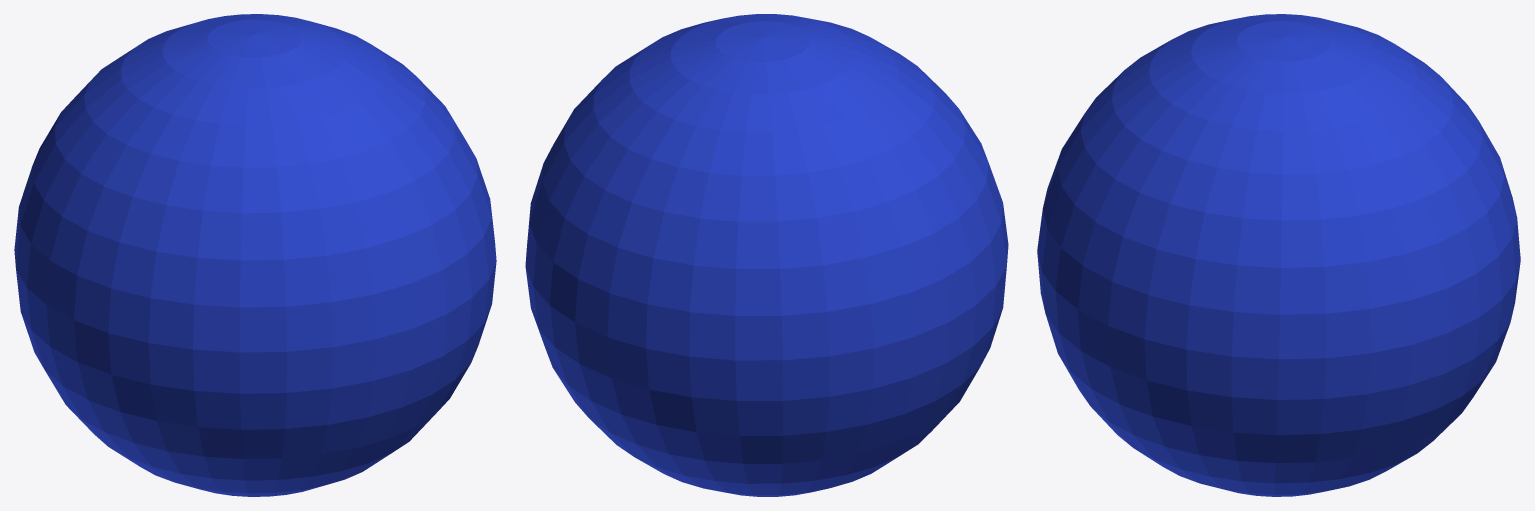
File: cart.fbx
The picture shows the model from 3 angles, left to right: view 1: azimuth 30°, elevation 25°; view 2: azimuth 150°, elevation 25°; view 3: azimuth 270°, elevation 25°; orthographic projection.
Visible parts, largest first — view 1: Sphere; view 2: Sphere; view 3: Sphere.
Part boxes in pixels (bbox=[...]): Sphere: bbox=[14, 14, 496, 496]; Sphere: bbox=[525, 14, 1008, 496]; Sphere: bbox=[1037, 14, 1520, 496].
Size of the model in its own units: 200 by 200 by 200.
